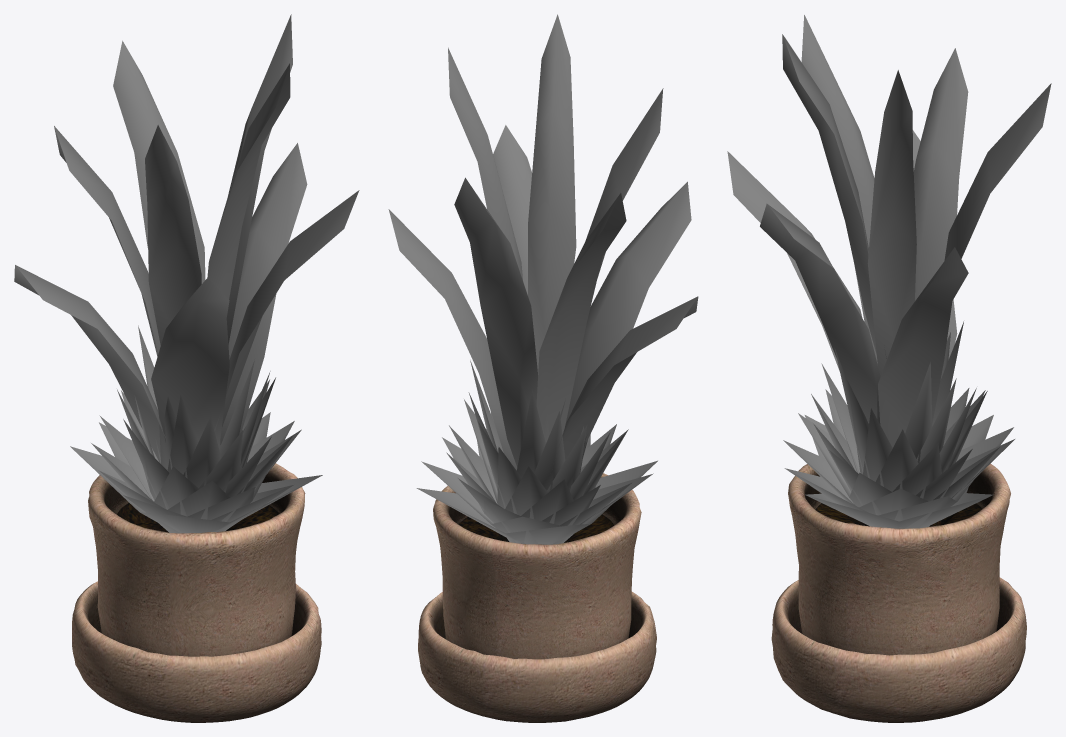
Rendered from pot.FBX.
The picture shows the model from 3 angles, left to right: view 1: azimuth 30°, elevation 25°; view 2: azimuth 150°, elevation 25°; view 3: azimuth 270°, elevation 25°; orthographic projection. The views are drawn at different scales.
Visible parts, largest first — view 1: Low-Poly Plant_.007, Low-Poly Plant_006; view 2: Low-Poly Plant_.007, Low-Poly Plant_006; view 3: Low-Poly Plant_.007, Low-Poly Plant_006.
Part boxes in pixels (<box>): Low-Poly Plant_.007: <box>14,14,359,533</box>; Low-Poly Plant_006: <box>72,463,321,722</box>; Low-Poly Plant_.007: <box>388,14,698,544</box>; Low-Poly Plant_006: <box>418,473,656,722</box>; Low-Poly Plant_.007: <box>727,15,1051,528</box>; Low-Poly Plant_006: <box>771,463,1026,722</box>.
Bounding box in the file's own units: 783 × 1616 × 710.
